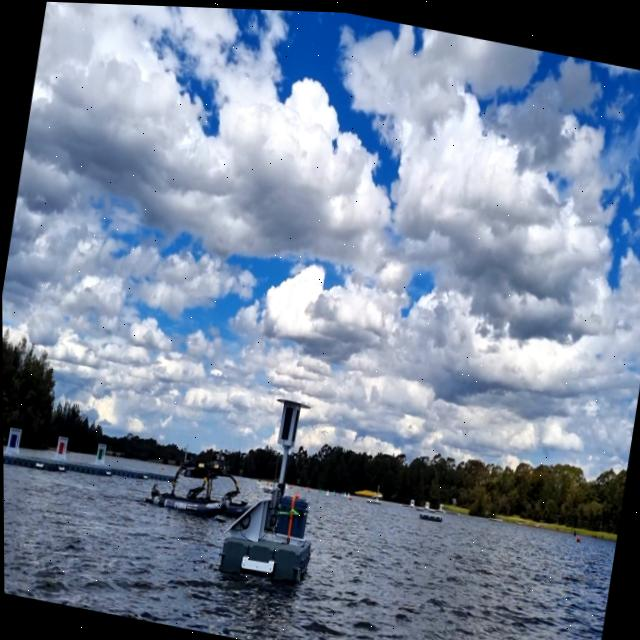led: (279, 403, 295, 442)
